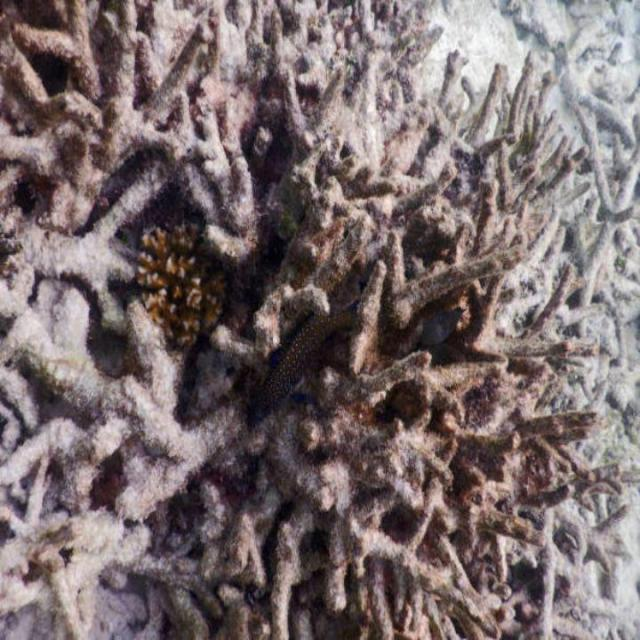Dead Coral: (63, 63, 557, 581)
